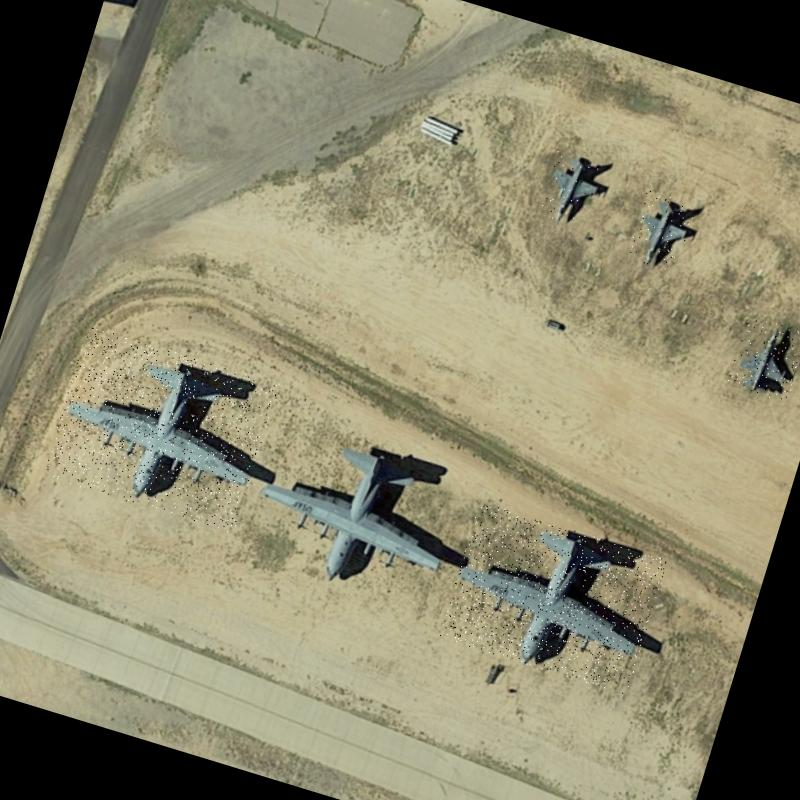A2: (239, 410, 477, 618), (43, 326, 280, 534), (438, 502, 668, 695)
A5: (726, 314, 800, 403), (625, 190, 697, 275), (536, 148, 608, 232)
